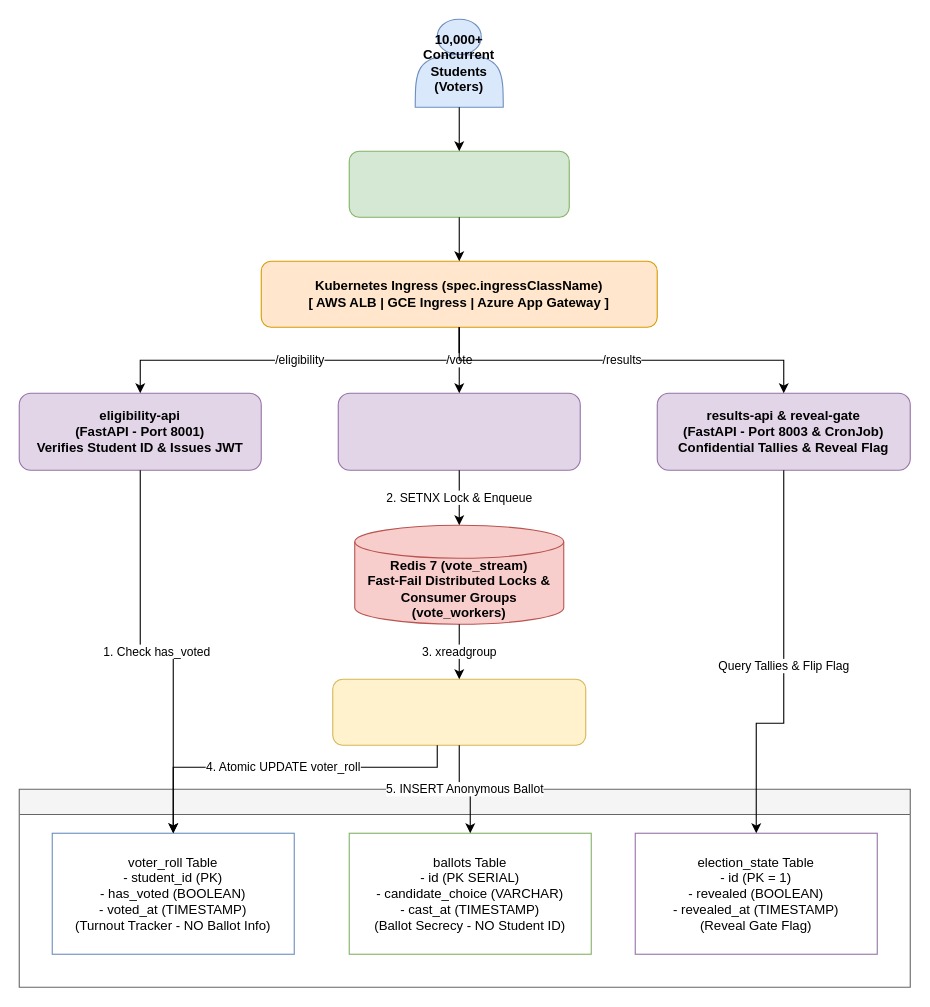
This 930x1007 diagram has some shape labels left out. The shapes that lost their labels are listed below. From the top down, each one's box as (x1, y1, x2, y2) in pixels, then its label:
(348, 150, 569, 217): Frontend (SPA / Nginx) Port 80 / 8080
(337, 392, 580, 470): vote-api (FastAPI - Port 8002) Validates JWT & Fast-Fail SETNX
(332, 678, 586, 745): worker Pods (Daemon Consumer) xreadgroup + Atomic SQL Tx
(18, 788, 910, 987): PostgreSQL 16 (voting_db) - StatefulSet / Cloud Managed
